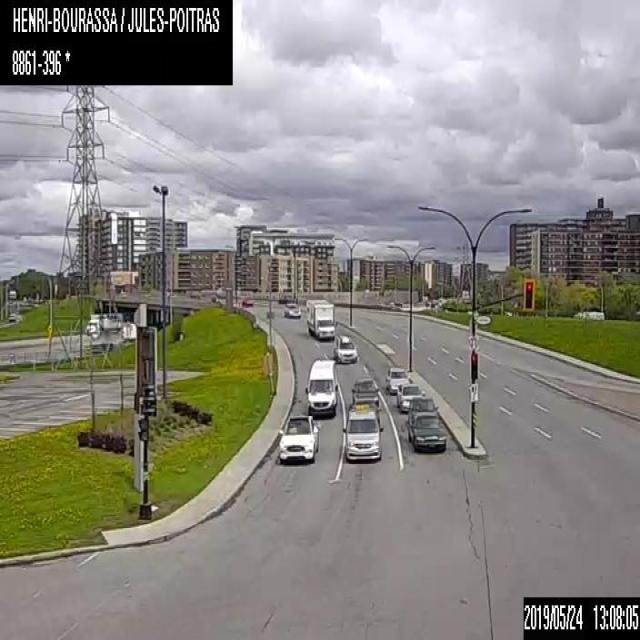vehicle: (342, 404, 383, 460), (276, 416, 318, 462), (304, 358, 337, 416), (406, 410, 445, 451), (306, 298, 337, 339), (85, 310, 123, 334), (351, 377, 379, 408), (397, 382, 424, 410), (385, 367, 410, 393), (334, 335, 356, 362), (407, 396, 438, 412), (283, 301, 300, 319), (241, 296, 254, 305), (7, 312, 15, 321)
